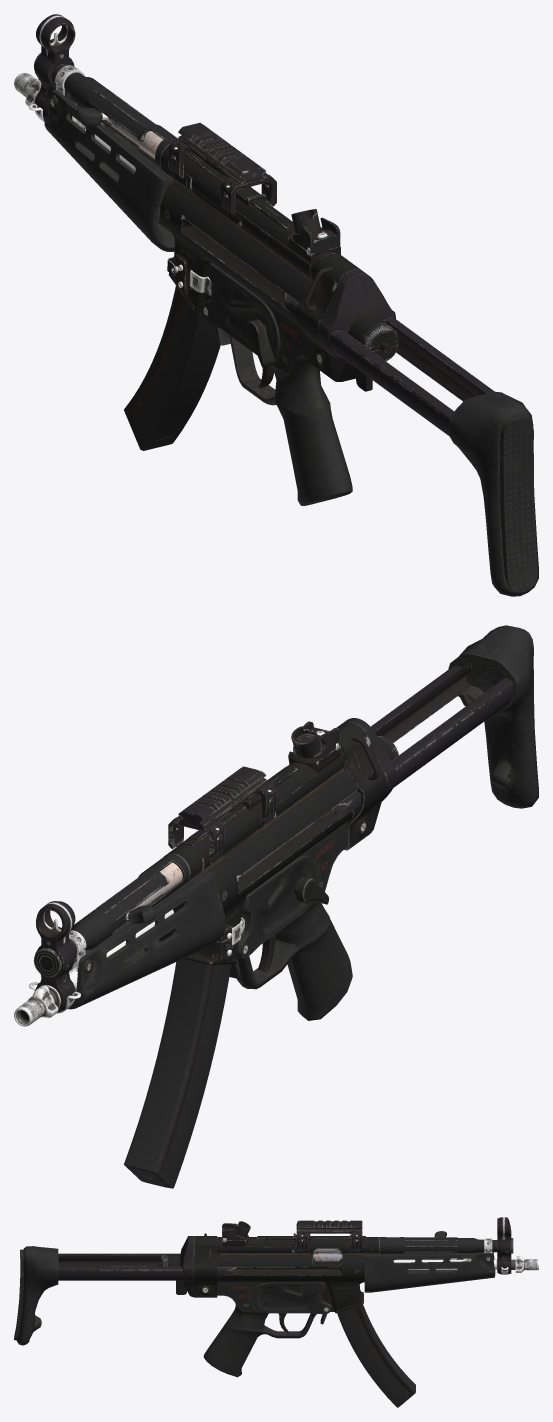
3 views of the same model, one above another, from view 1: azimuth 30°, elevation 25°; view 2: azimuth 150°, elevation 25°; view 3: azimuth 270°, elevation 25° (orthographic). The views are drawn at different scales.
Visible parts, largest first — view 1: body, mag; view 2: body, mag; view 3: body, mag.
Boxes of the visible parts, x1,y1,x2,y2 form: body: [14, 14, 538, 596]; mag: [124, 286, 230, 450]; body: [14, 625, 538, 1026]; mag: [124, 944, 248, 1188]; body: [14, 1217, 538, 1377]; mag: [320, 1302, 415, 1407].
Bounding box in the file's own units: 0.0584 × 0.266 × 0.68.
Materials: 2 (1 with a texture image).
